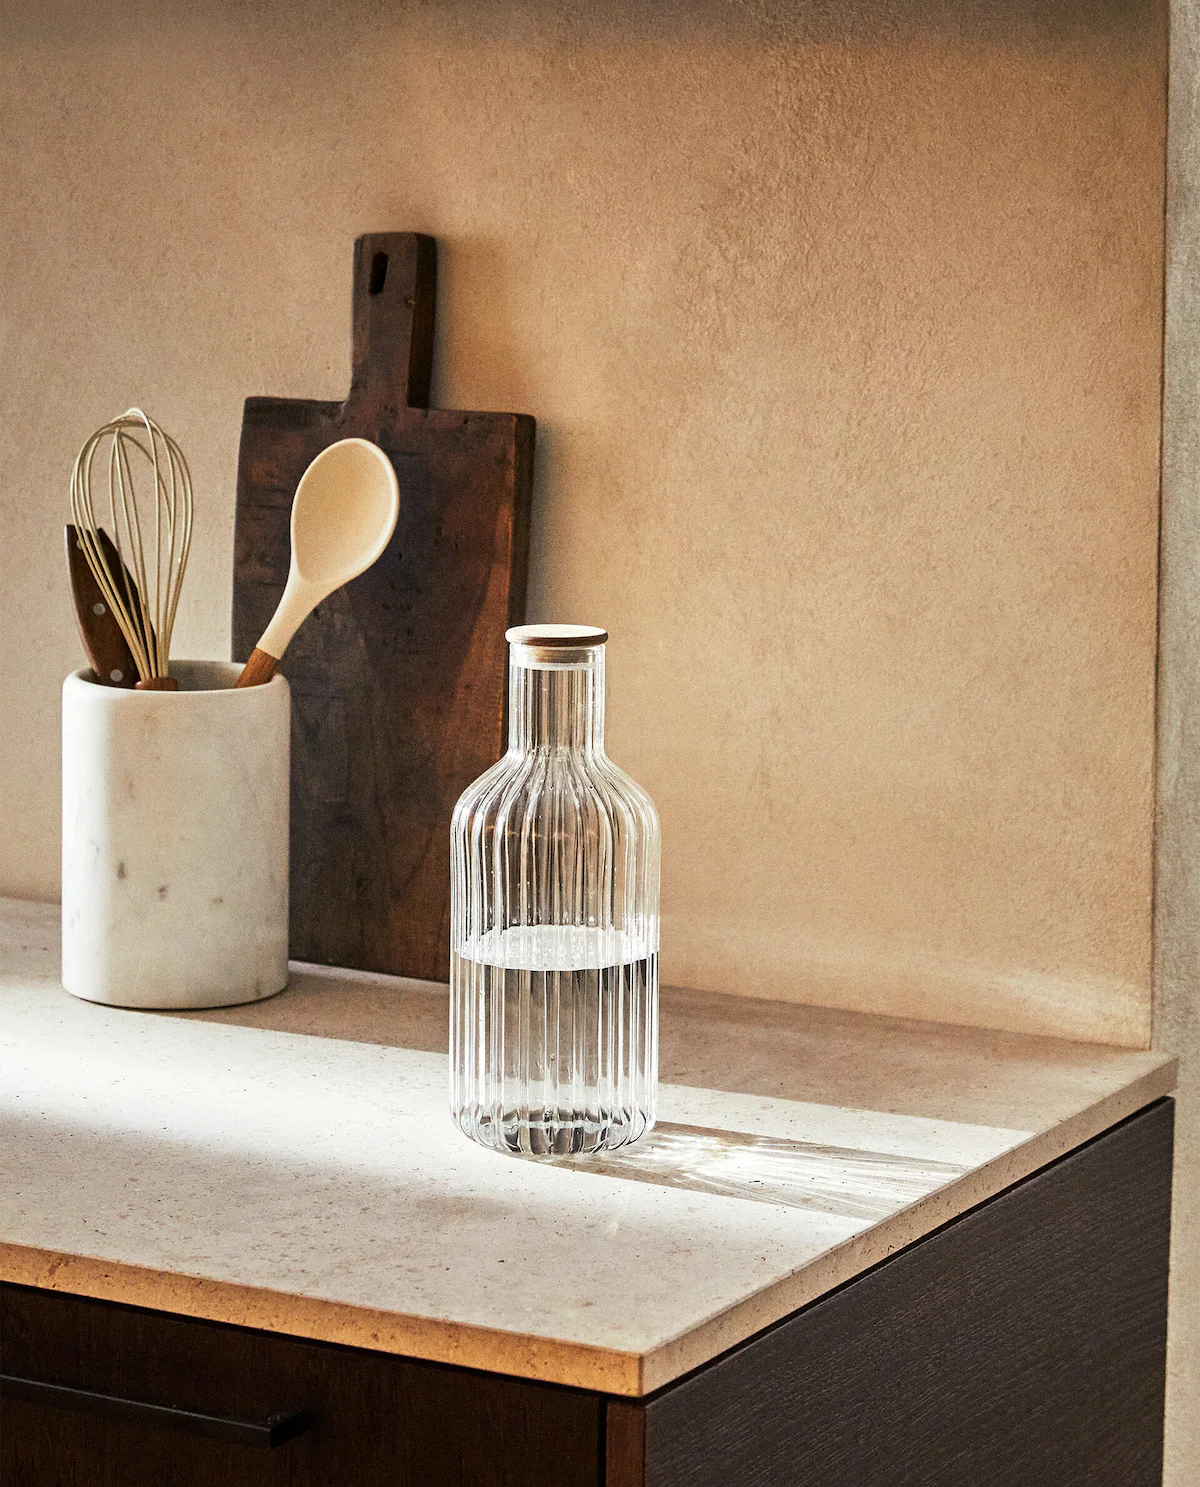glass_bottle: (432, 608, 688, 1174)
